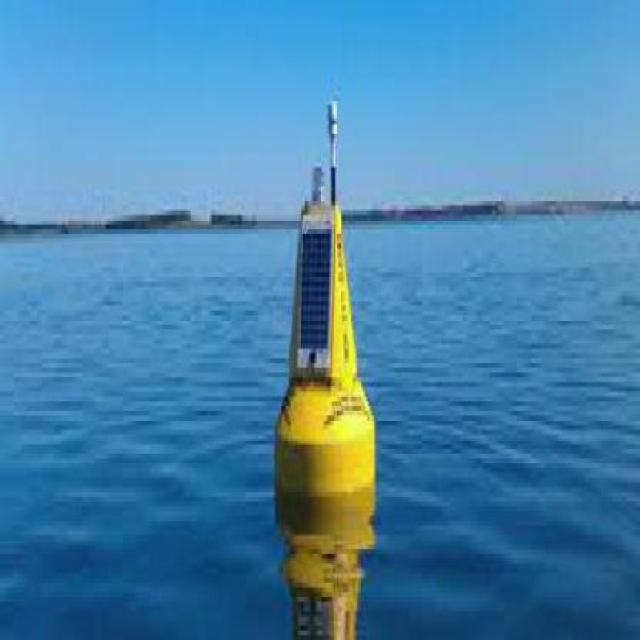buoy: (273, 77, 384, 560)
